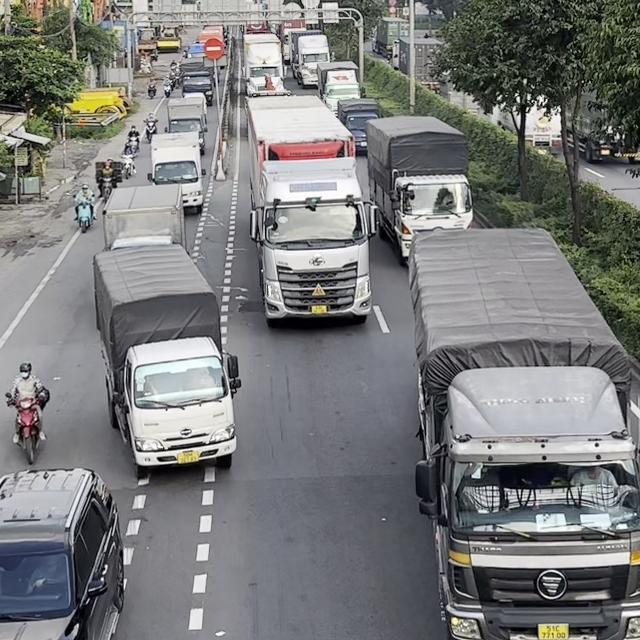car: (0, 466, 126, 639)
motorcycle: (4, 387, 49, 464), (73, 196, 95, 233), (119, 151, 137, 179), (97, 173, 114, 200), (143, 118, 157, 143), (127, 135, 139, 153)
truck: (407, 226, 639, 639), (92, 242, 241, 476), (244, 95, 380, 326), (366, 114, 474, 266), (101, 183, 187, 253), (148, 131, 205, 214), (242, 31, 288, 96), (165, 93, 208, 154), (315, 60, 362, 114), (290, 29, 332, 88), (338, 100, 379, 153), (179, 58, 213, 106)
